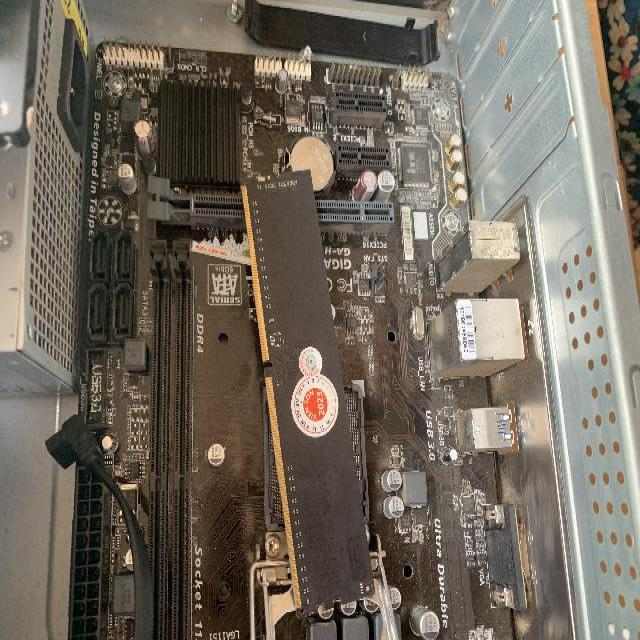Mainboard: (80, 34, 522, 640)
PSU: (0, 0, 90, 395)
RAM: (240, 170, 377, 614)
